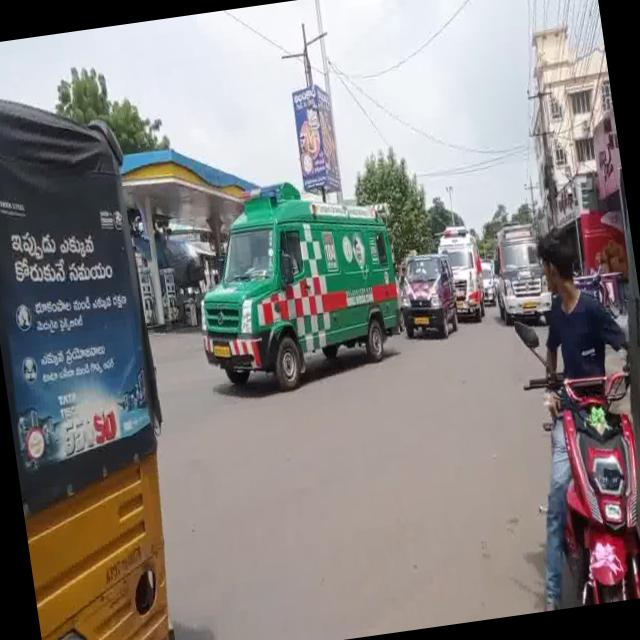ambulance: (179, 166, 412, 407), (432, 222, 498, 332), (496, 212, 550, 325)
